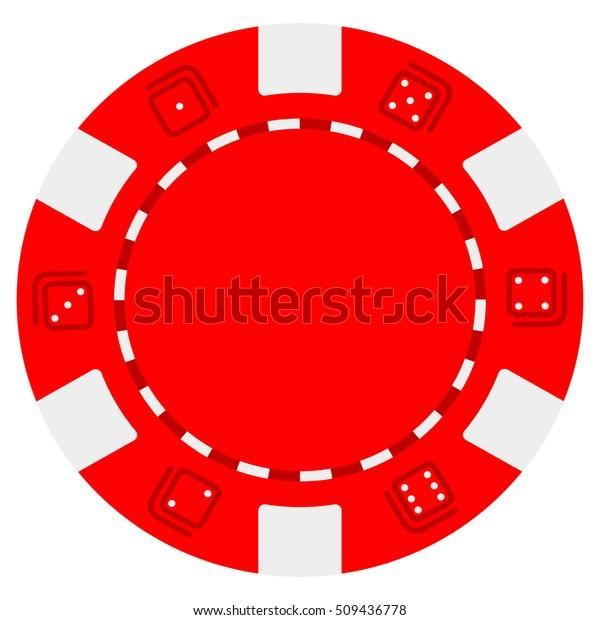chip-red: (18, 24, 582, 576)
